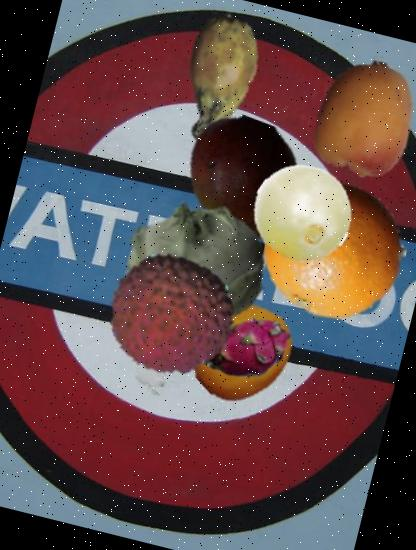Apricot: (294, 48, 416, 190)
Cactus: (141, 0, 300, 158)
Grape: (242, 152, 364, 274)
Kohlrabi: (110, 176, 282, 348)
Lemon: (178, 287, 306, 414)
Lychee: (96, 239, 245, 388)
Mango: (163, 104, 317, 258)
Orange: (249, 165, 416, 337)
Pitahaya: (192, 295, 300, 403)
